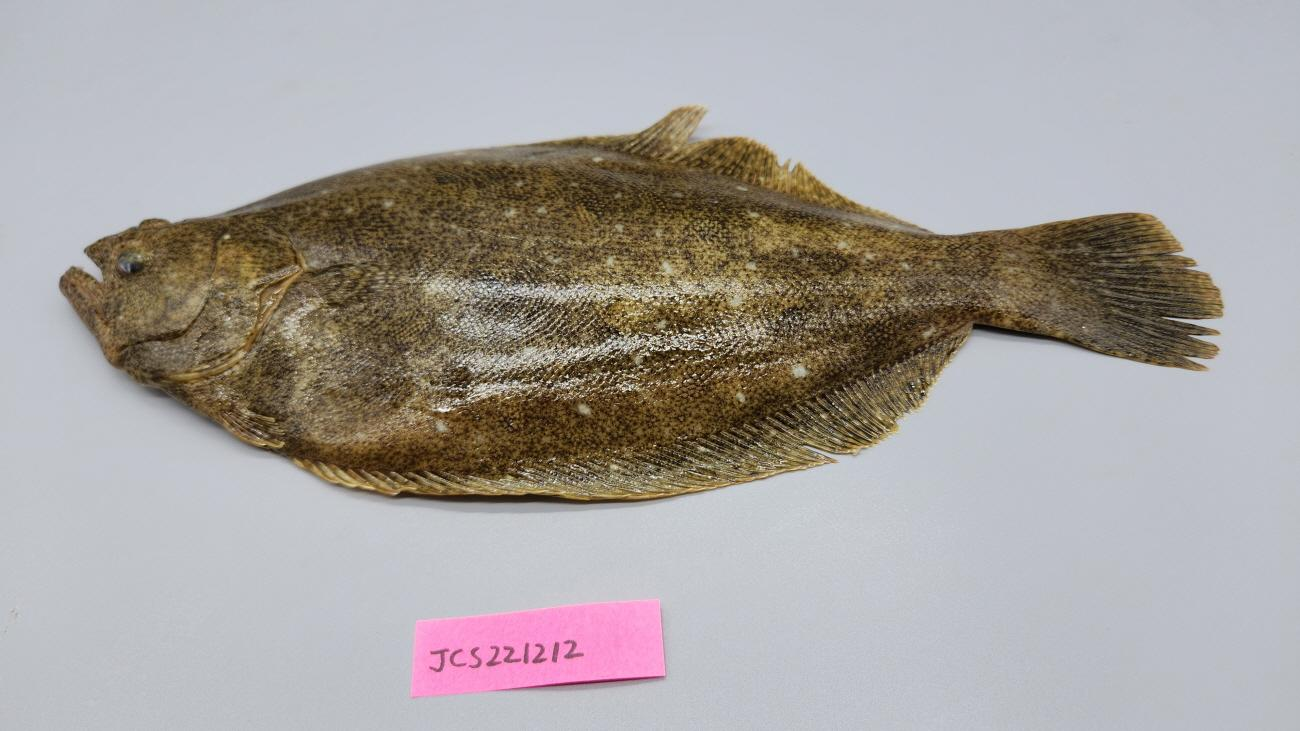POOUN: (57, 100, 1229, 502)
